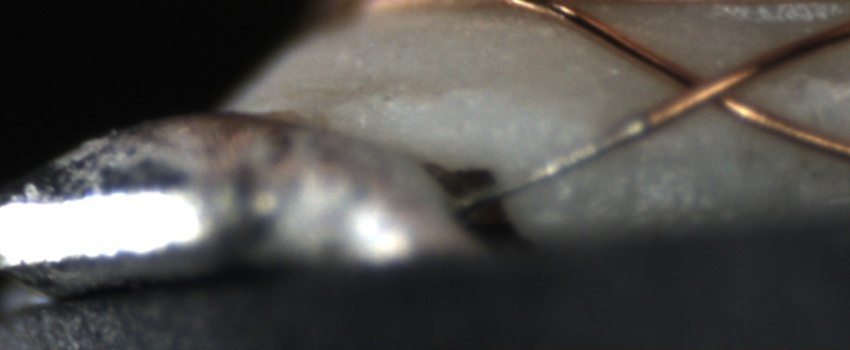CL: (661, 55, 763, 121)
TS: (455, 116, 652, 211)
TTCW: (459, 96, 698, 215)
